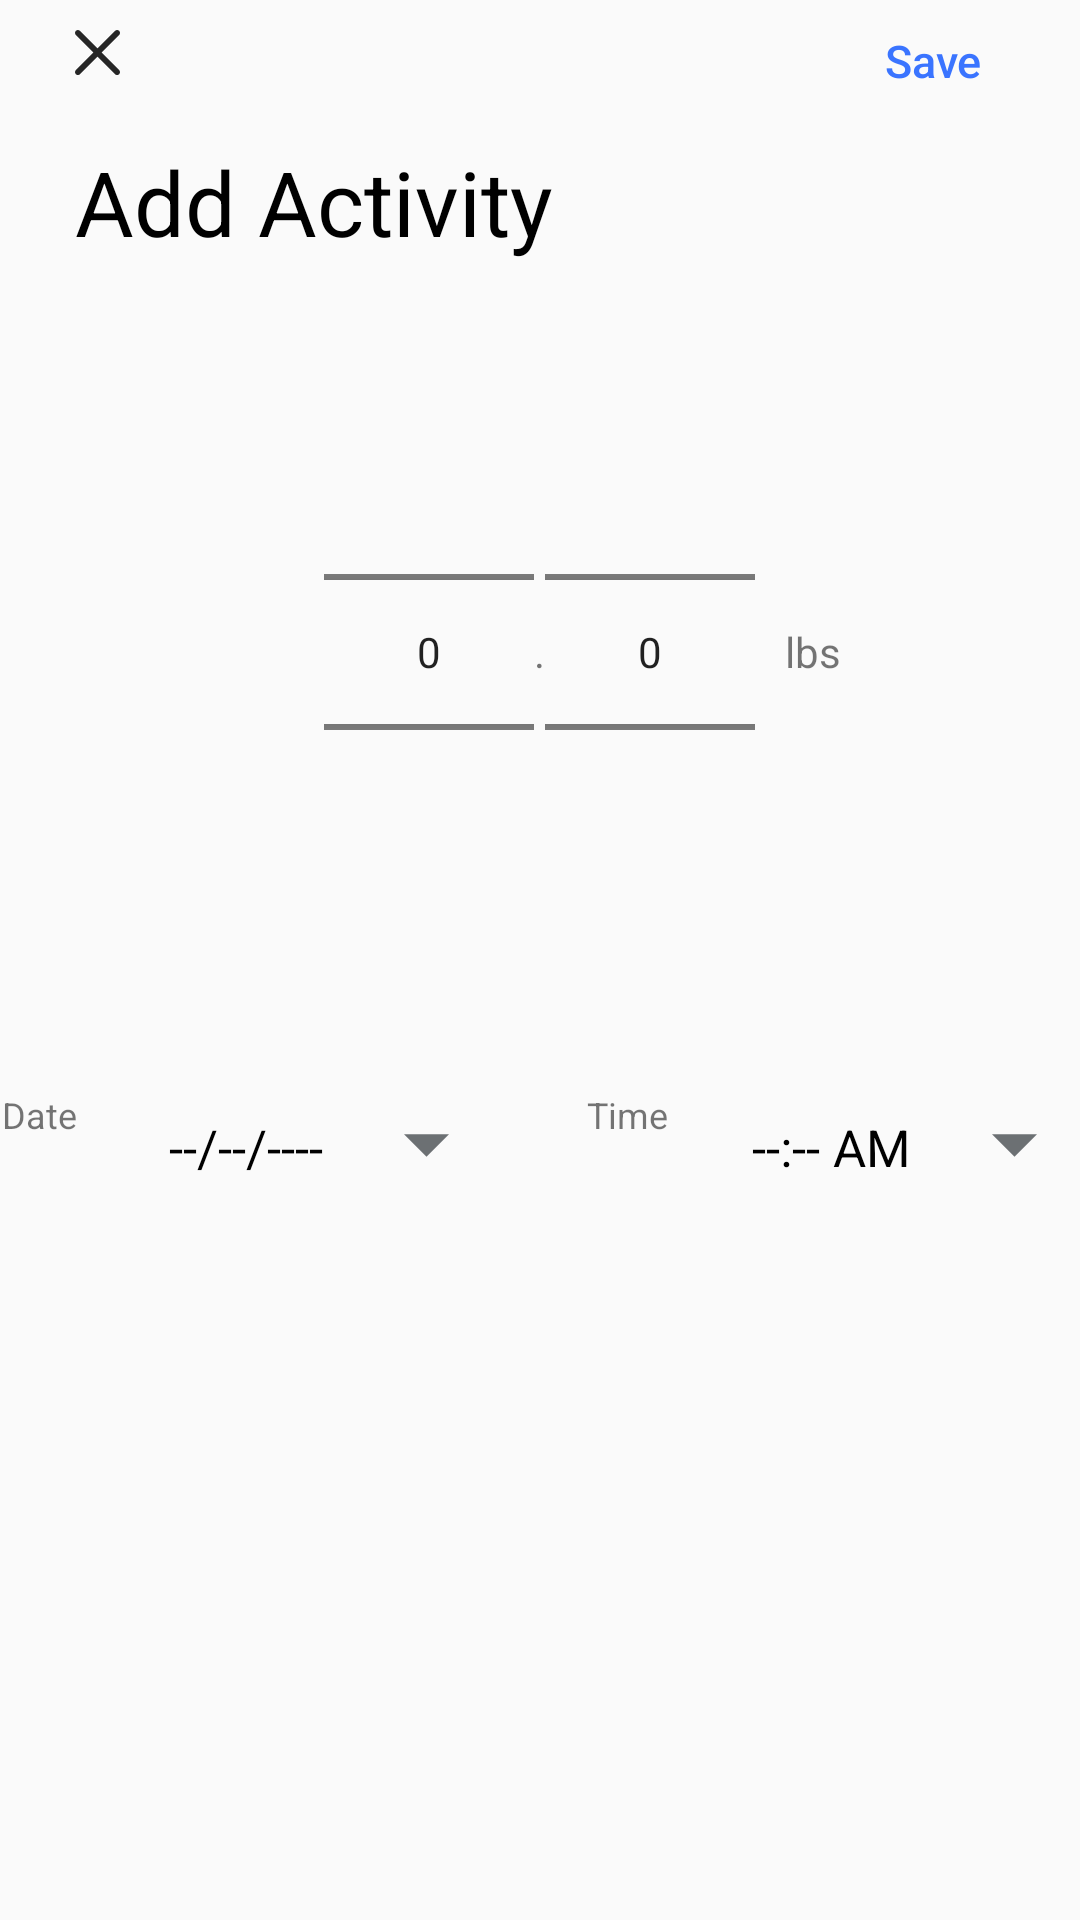

Icons on this 1080 × 1920 Android screen, each with the point to tap as point (x, y):
close: point (97, 52)
down arrow: point (426, 1145), point (1014, 1145)
